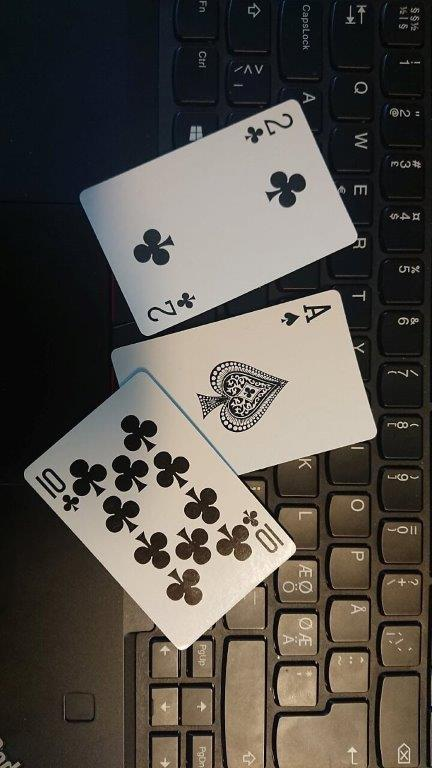10C: (28, 464, 84, 515)
2C: (240, 108, 295, 148)
AS: (278, 299, 334, 332)
